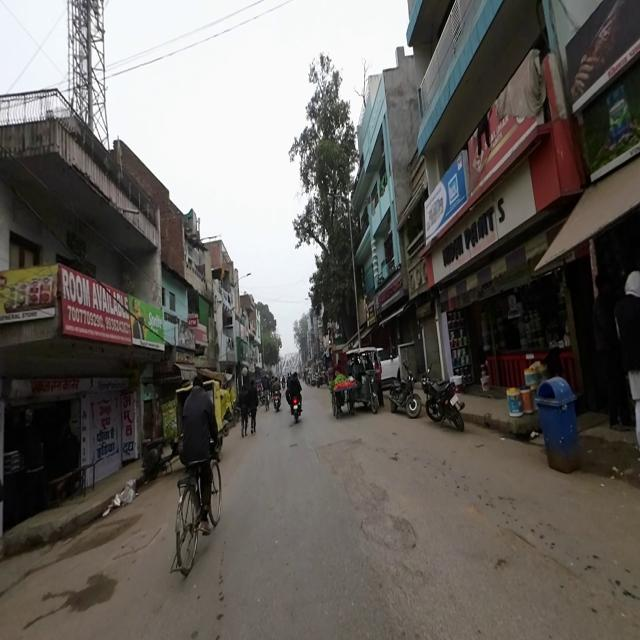Garbage: (103, 478, 139, 512)
